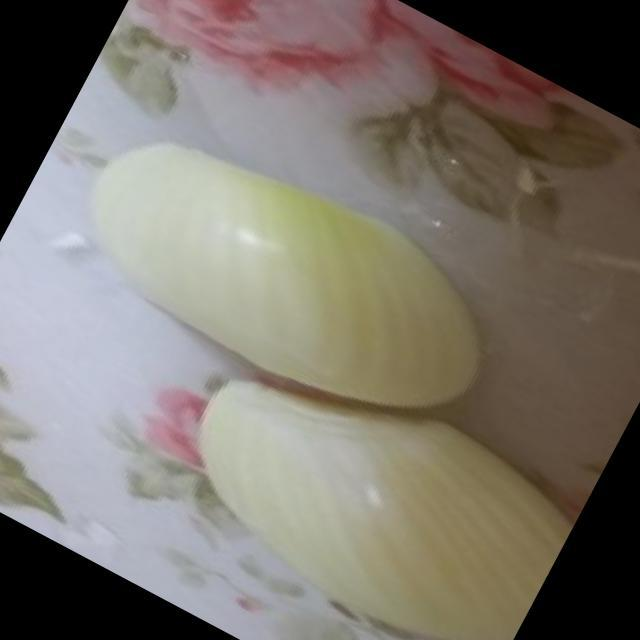Onion: (181, 371, 564, 635), (104, 149, 473, 413)
